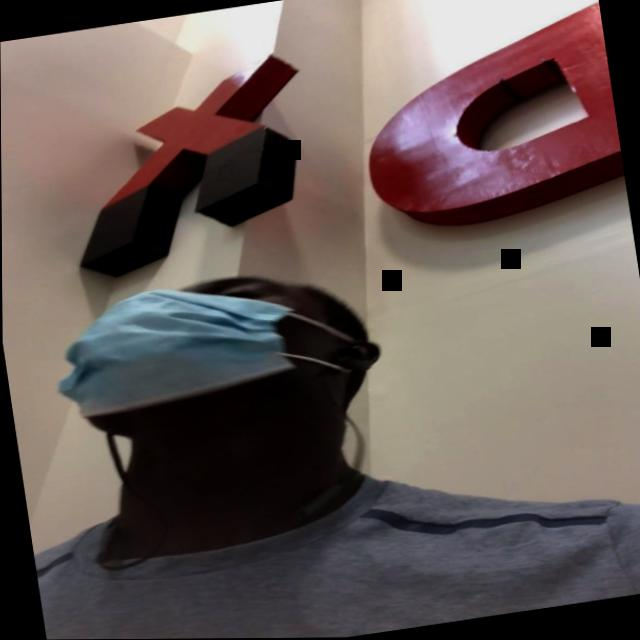Mask: (44, 260, 355, 447)
